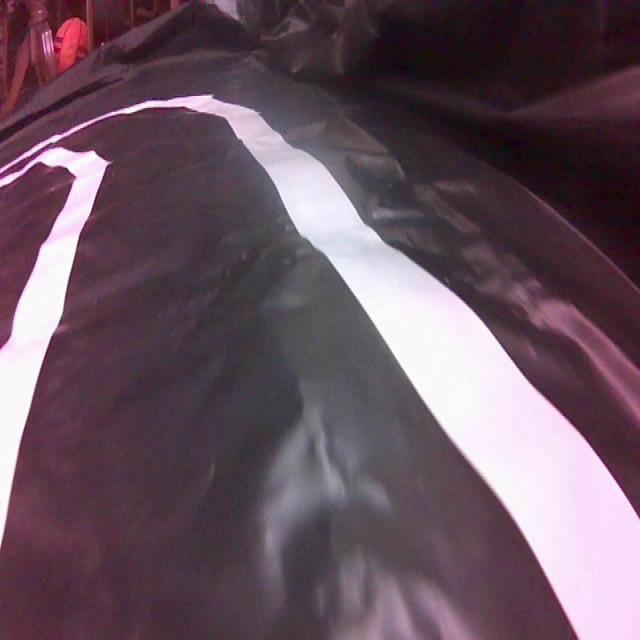LineaCarril: (21, 95, 640, 638), (0, 148, 108, 546)
